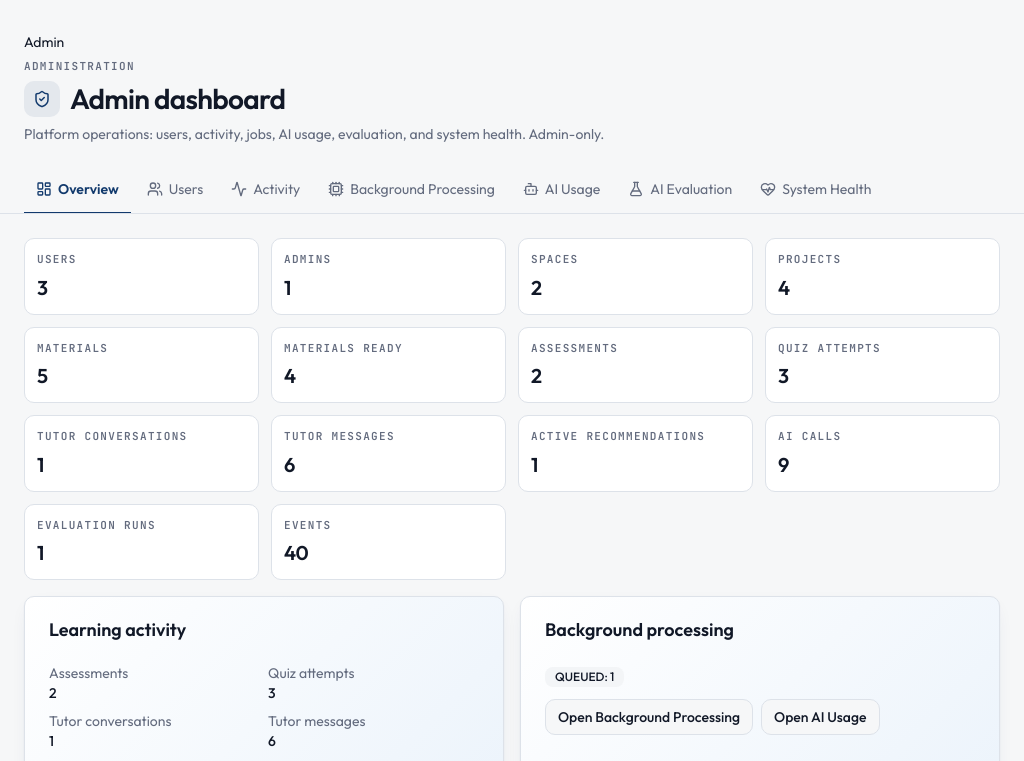
Test: AdminPage › lists users with roles and inspect action
Click the tab "Users" at (175, 192), box [135,169,215,214]
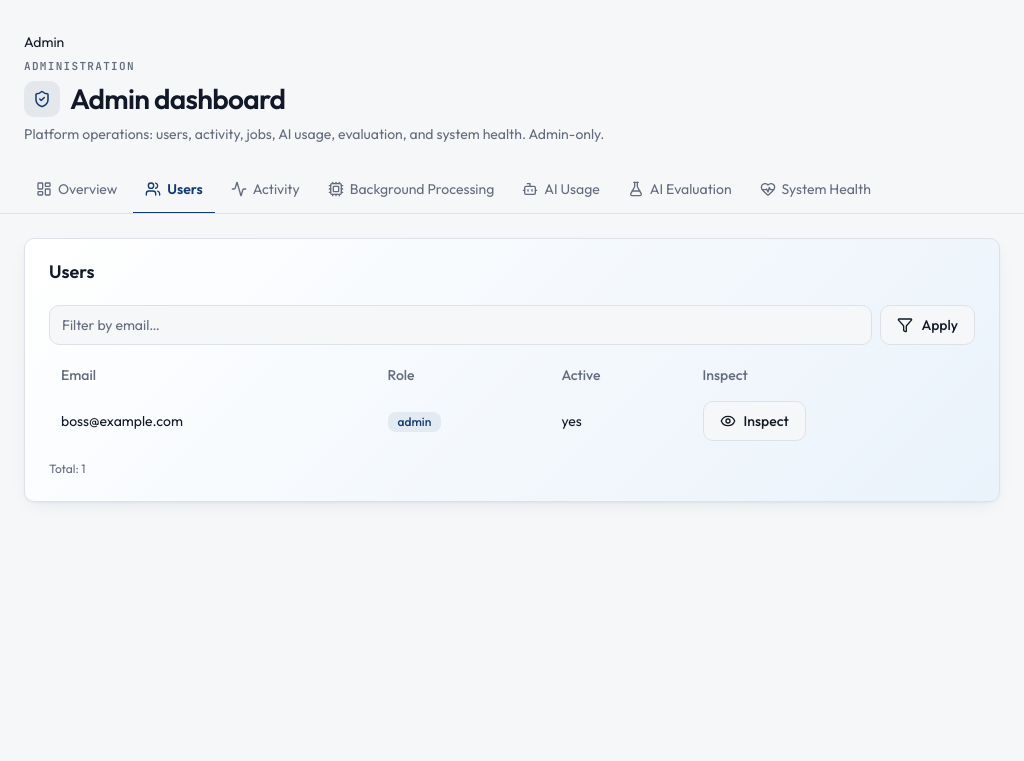
Check: the text "boss@example.com" is shown, box [49,393,376,449]
Check: the text "admin" is shown, box [388,412,441,432]
